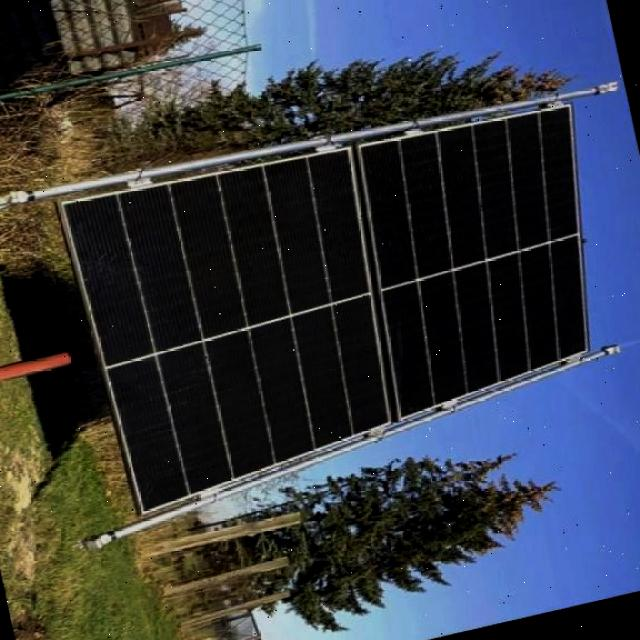Normal Solar Panel: (53, 84, 640, 516)
